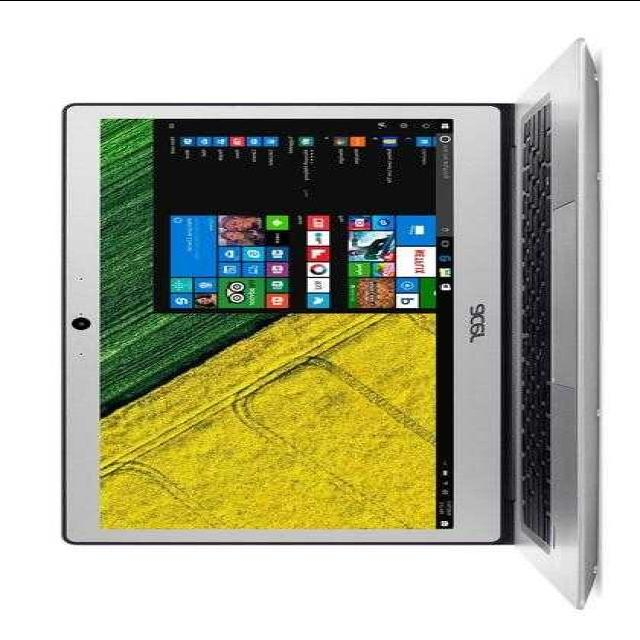laptop: (69, 99, 623, 546)
